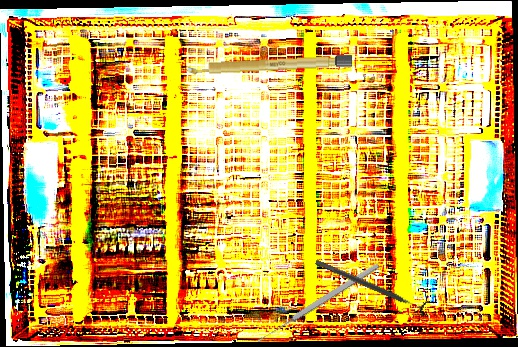Fixation Ring: (312, 253, 431, 318)
Scalpel Handle: (184, 53, 353, 76)
Surgical Spoon: (255, 261, 381, 345)
